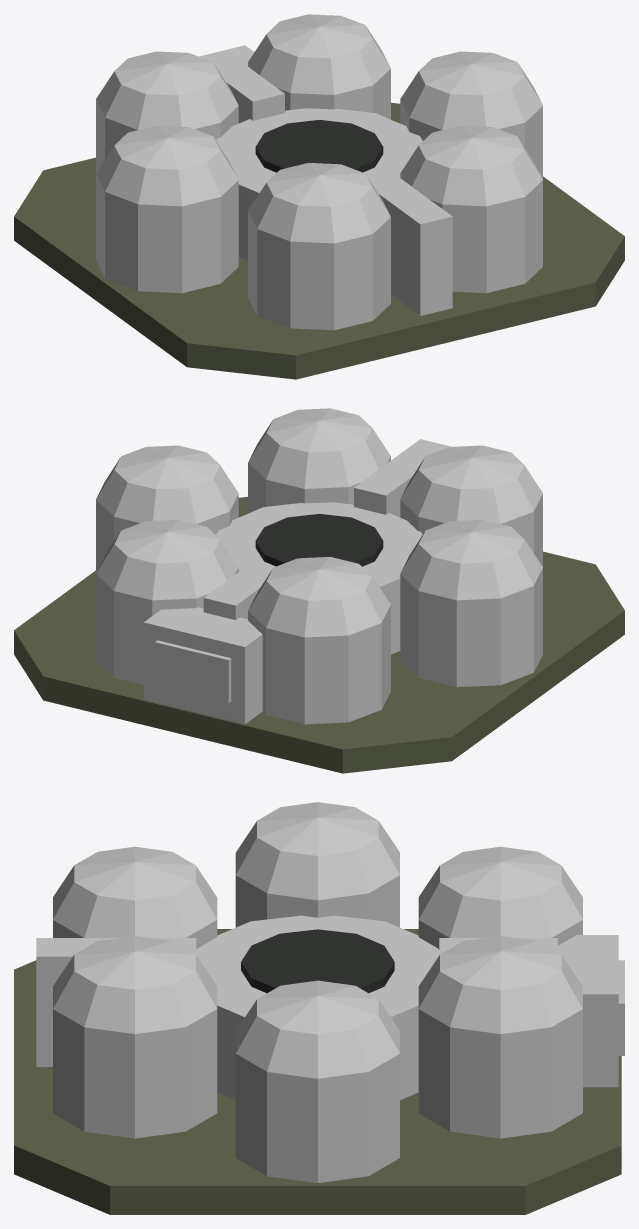
File: mech_stabilizer_off.obj
The picture shows the model from 3 angles, top to bottom: view 1: azimuth 30°, elevation 25°; view 2: azimuth 150°, elevation 25°; view 3: azimuth 270°, elevation 25°; orthographic projection. The views are drawn at different scales.
Parts seen in each view (by area): view 1: mech_stabilizer_off_0, mech_stabilizer_off_5, mech_stabilizer_off_4, mech_stabilizer_off_6, mech_stabilizer_off_2, mech_stabilizer_off_1, mech_stabilizer_off_3, mech_stabilizer_off_9, mech_stabilizer_off_7, mech_stabilizer_off_8, mech_stabilizer_off_10, mech_stabilizer_off_11; view 2: mech_stabilizer_off_0, mech_stabilizer_off_4, mech_stabilizer_off_3, mech_stabilizer_off_2, mech_stabilizer_off_6, mech_stabilizer_off_1, mech_stabilizer_off_5, mech_stabilizer_off_11, mech_stabilizer_off_7, mech_stabilizer_off_8, mech_stabilizer_off_12, mech_stabilizer_off_9 (+1 smaller); view 3: mech_stabilizer_off_0, mech_stabilizer_off_2, mech_stabilizer_off_6, mech_stabilizer_off_1, mech_stabilizer_off_4, mech_stabilizer_off_3, mech_stabilizer_off_5, mech_stabilizer_off_7, mech_stabilizer_off_8, mech_stabilizer_off_11, mech_stabilizer_off_9, mech_stabilizer_off_12.
Part boxes in pixels (bbox=[...]): mech_stabilizer_off_0: bbox=[14, 102, 624, 379]; mech_stabilizer_off_5: bbox=[248, 163, 390, 330]; mech_stabilizer_off_4: bbox=[96, 125, 238, 293]; mech_stabilizer_off_6: bbox=[400, 125, 542, 293]; mech_stabilizer_off_2: bbox=[248, 14, 390, 119]; mech_stabilizer_off_1: bbox=[400, 51, 542, 178]; mech_stabilizer_off_3: bbox=[96, 51, 238, 172]; mech_stabilizer_off_9: bbox=[364, 168, 452, 315]; mech_stabilizer_off_7: bbox=[216, 108, 422, 260]; mech_stabilizer_off_8: bbox=[255, 120, 383, 172]; mech_stabilizer_off_10: bbox=[214, 57, 284, 123]; mech_stabilizer_off_11: bbox=[199, 45, 254, 66]; mech_stabilizer_off_0: bbox=[14, 496, 624, 773]; mech_stabilizer_off_4: bbox=[400, 519, 542, 687]; mech_stabilizer_off_3: bbox=[248, 557, 390, 724]; mech_stabilizer_off_2: bbox=[96, 519, 238, 684]; mech_stabilizer_off_6: bbox=[248, 408, 390, 513]; mech_stabilizer_off_1: bbox=[96, 445, 238, 572]; mech_stabilizer_off_5: bbox=[400, 445, 542, 566]; mech_stabilizer_off_11: bbox=[143, 607, 262, 724]; mech_stabilizer_off_7: bbox=[216, 502, 422, 654]; mech_stabilizer_off_8: bbox=[255, 514, 383, 566]; mech_stabilizer_off_12: bbox=[155, 640, 231, 703]; mech_stabilizer_off_9: bbox=[354, 439, 451, 517]; mech_stabilizer_off_0: bbox=[14, 929, 621, 1214]; mech_stabilizer_off_2: bbox=[418, 936, 582, 1138]; mech_stabilizer_off_6: bbox=[53, 936, 217, 1138]; mech_stabilizer_off_1: bbox=[235, 980, 399, 1183]; mech_stabilizer_off_4: bbox=[235, 802, 399, 927]; mech_stabilizer_off_3: bbox=[418, 846, 582, 949]; mech_stabilizer_off_5: bbox=[53, 846, 217, 949]; mech_stabilizer_off_7: bbox=[196, 915, 439, 1099]; mech_stabilizer_off_8: bbox=[241, 929, 394, 993]; mech_stabilizer_off_11: bbox=[557, 935, 618, 1087]; mech_stabilizer_off_9: bbox=[36, 938, 196, 1066]; mech_stabilizer_off_12: bbox=[618, 960, 624, 1055].
Bounding box in the file's own units: 1.9 × 0.62 × 1.91.
